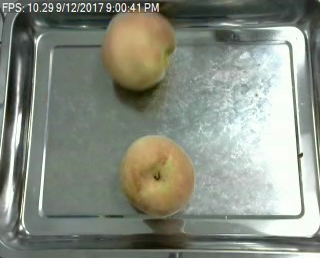Peach: (118, 134, 195, 216), (101, 8, 177, 91)
